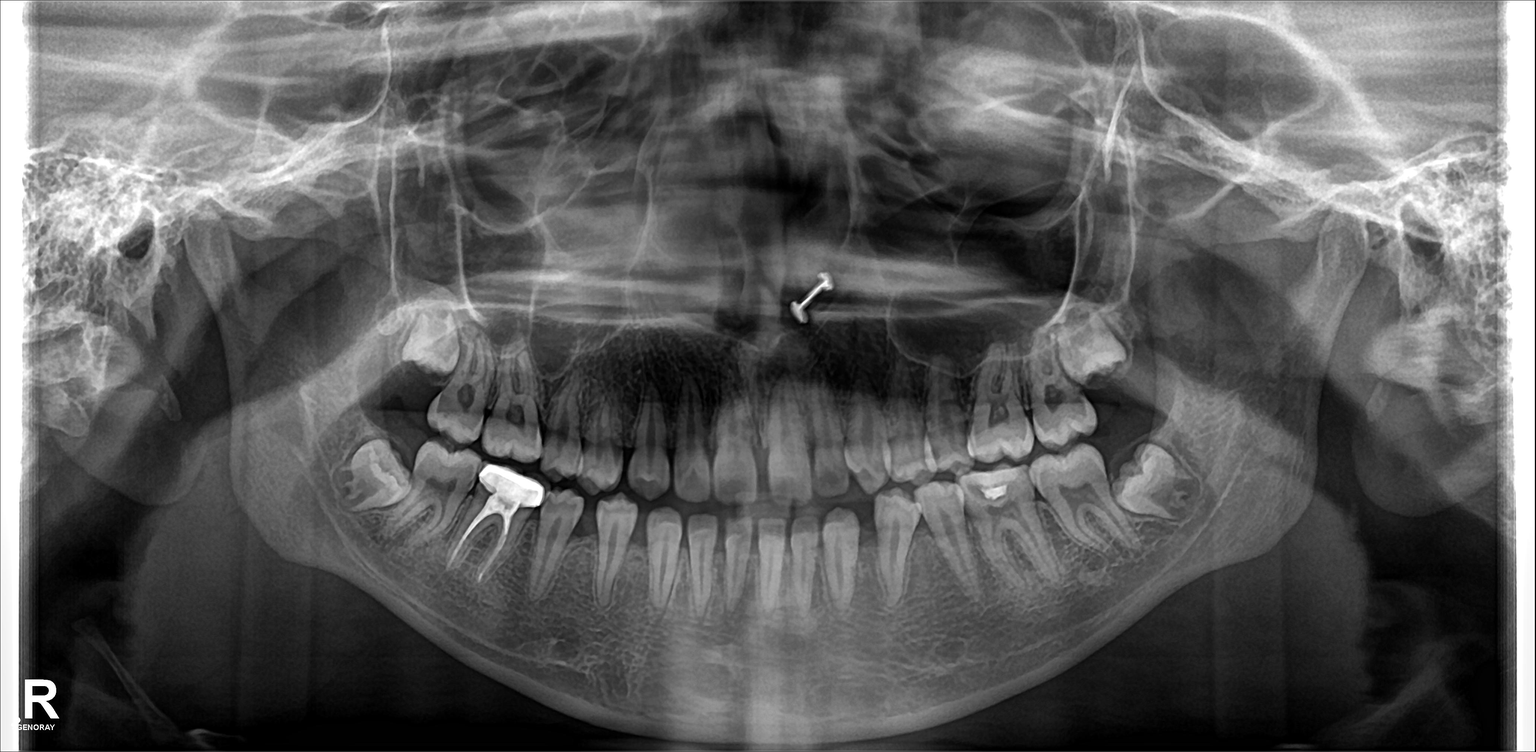Endodontically Treated Tooth: (473, 462, 533, 587)
Impacted Third Molar: (1121, 449, 1205, 517), (343, 437, 411, 508), (1060, 316, 1134, 381), (399, 307, 463, 378)
